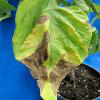Tomato leaf late blight: (12, 1, 94, 99)
